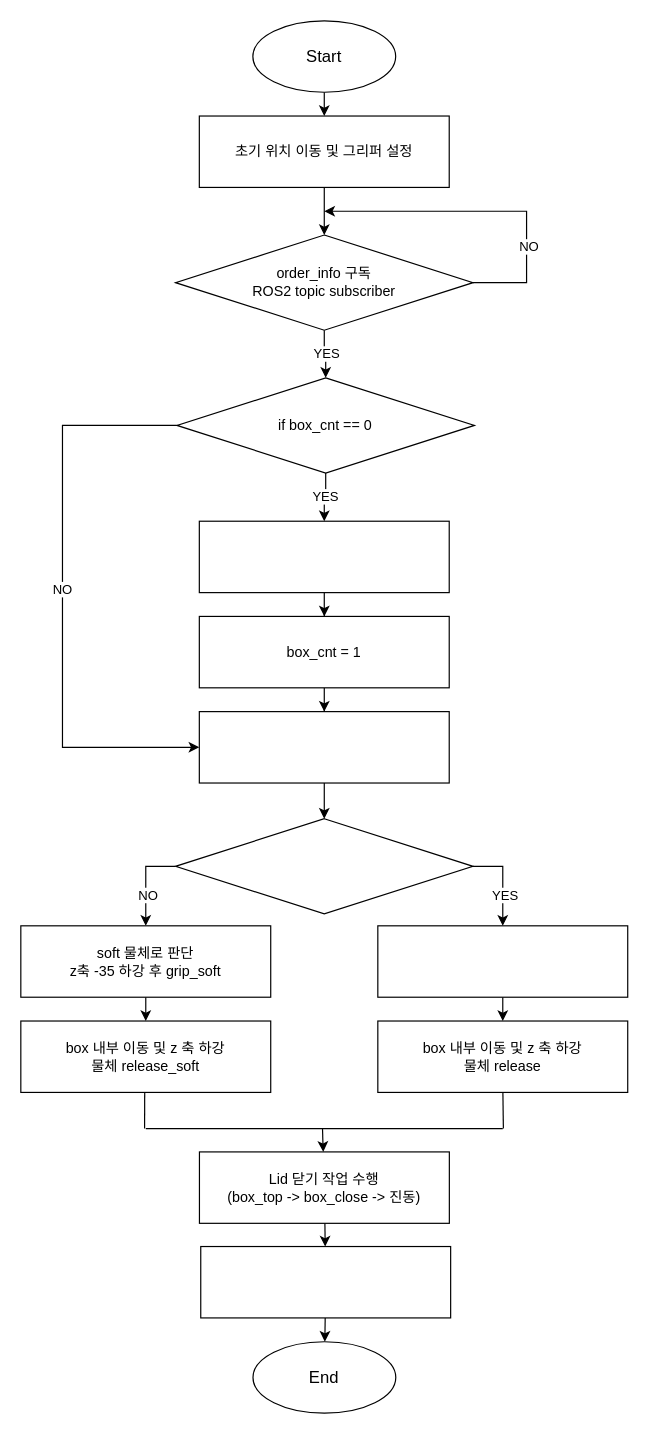
This 649x1434 diagram has some shape labels left out. The shapes that lost their labels are listed below. From the top down, each one's centre as x and y in pixels, then its label:
point (323, 556): box folding force_control
point (323, 746): 강성 체크 force_control
point (323, 866): fz_abs_max ≥ 10.0? (경계값 판별)
point (502, 961): hard 물체로 판단 z축 -30 하강 후 grip
point (325, 1281): Tape 부착 작업 수행 move(tape_start), movec()
